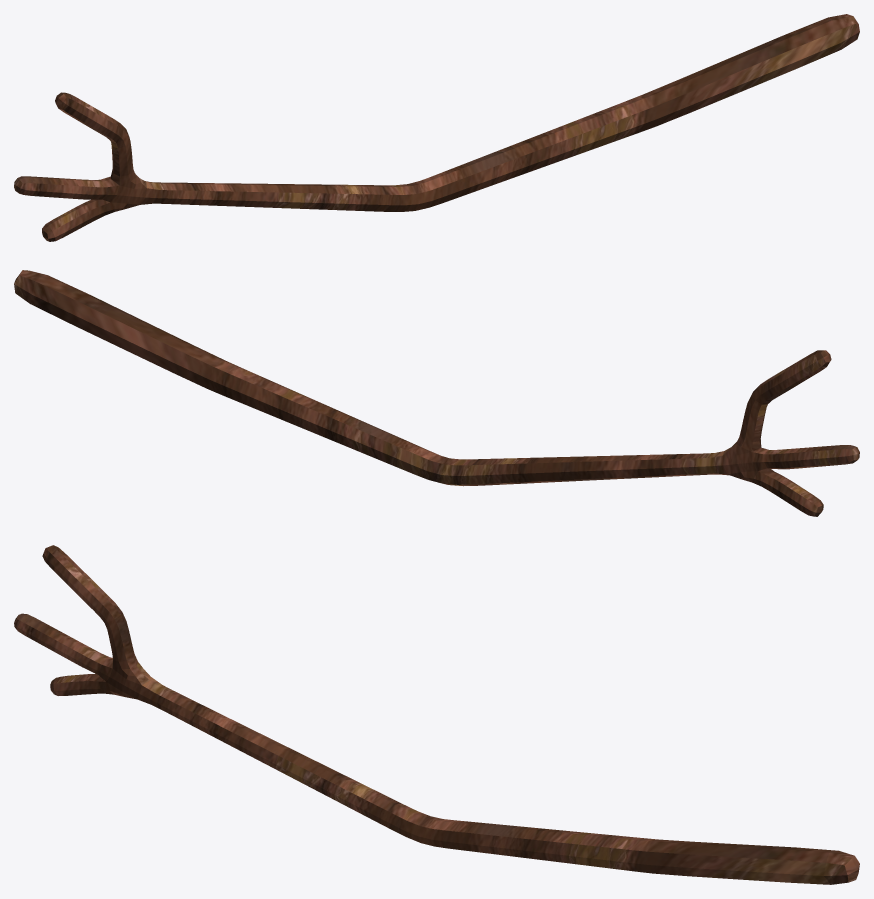
File: snowmanRightArm.obj
3 views of the same model, one above another, from view 1: azimuth 30°, elevation 25°; view 2: azimuth 150°, elevation 25°; view 3: azimuth 330°, elevation 25° (orthographic).
Parts seen in each view (by area): view 1: Cube.005; view 2: Cube.005; view 3: Cube.005.
Part boxes in pixels (x1,y1,x2,y2): Cube.005: (14, 14, 859, 241); Cube.005: (14, 270, 859, 516); Cube.005: (14, 545, 859, 884).
Size of the model in its own units: 0.9369 by 0.2264 by 0.0496.
1 material, 1 textured.
